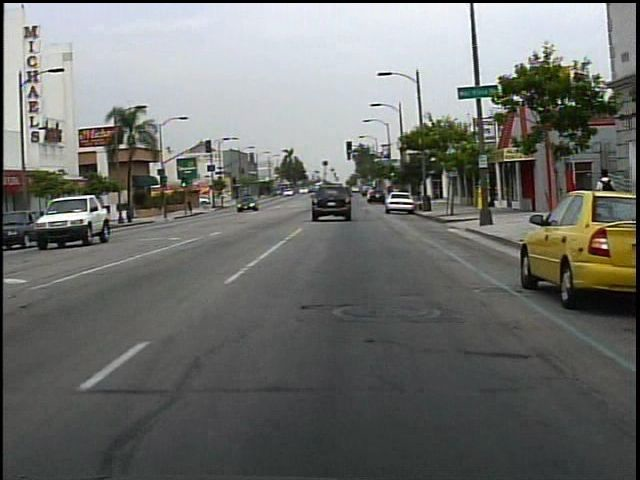person: (591, 162, 619, 209)
